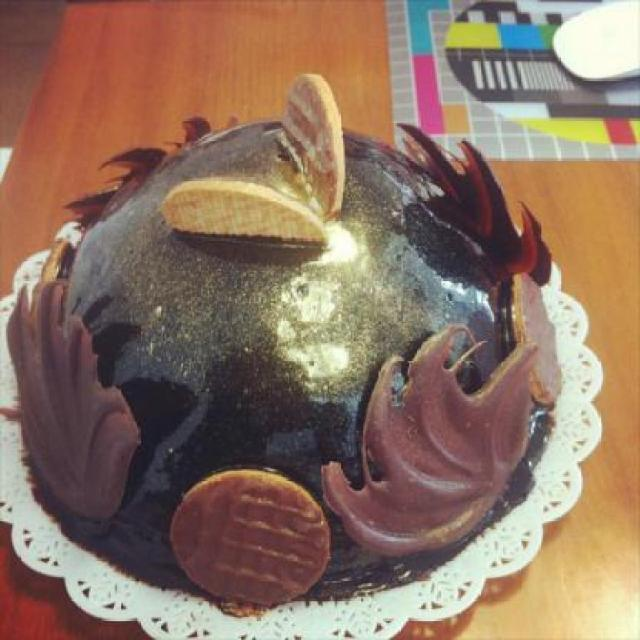Cake: (2, 73, 556, 612)
